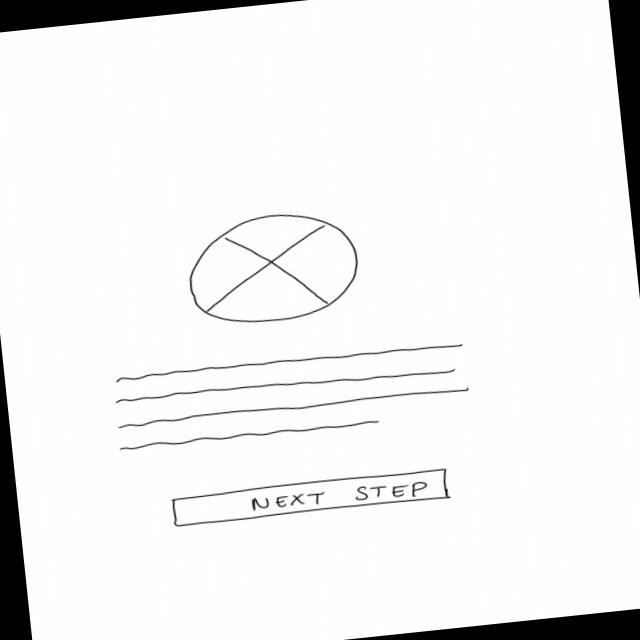button: (166, 466, 453, 530)
image: (180, 205, 366, 332)
textbox: (110, 338, 476, 456)
